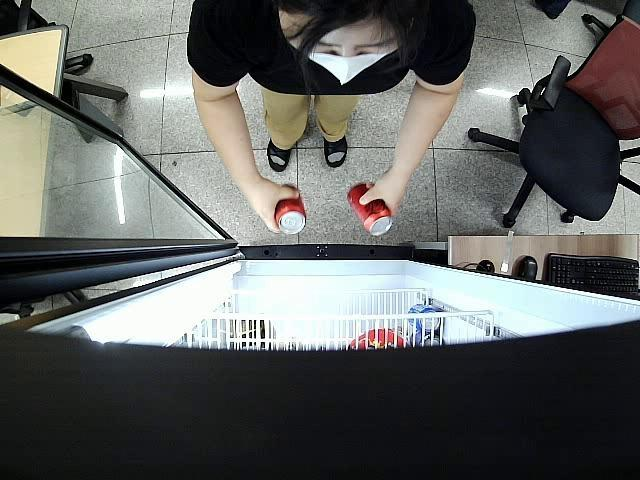11_cocaColaZero: (346, 182, 394, 238), (271, 184, 306, 234)
